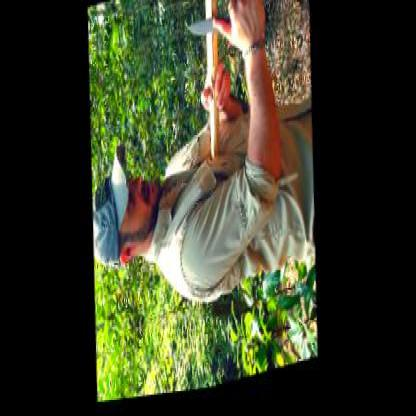knife: (183, 0, 260, 62)
